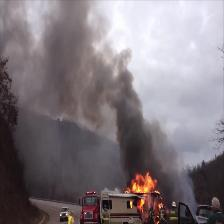fire: (117, 169, 161, 221)
